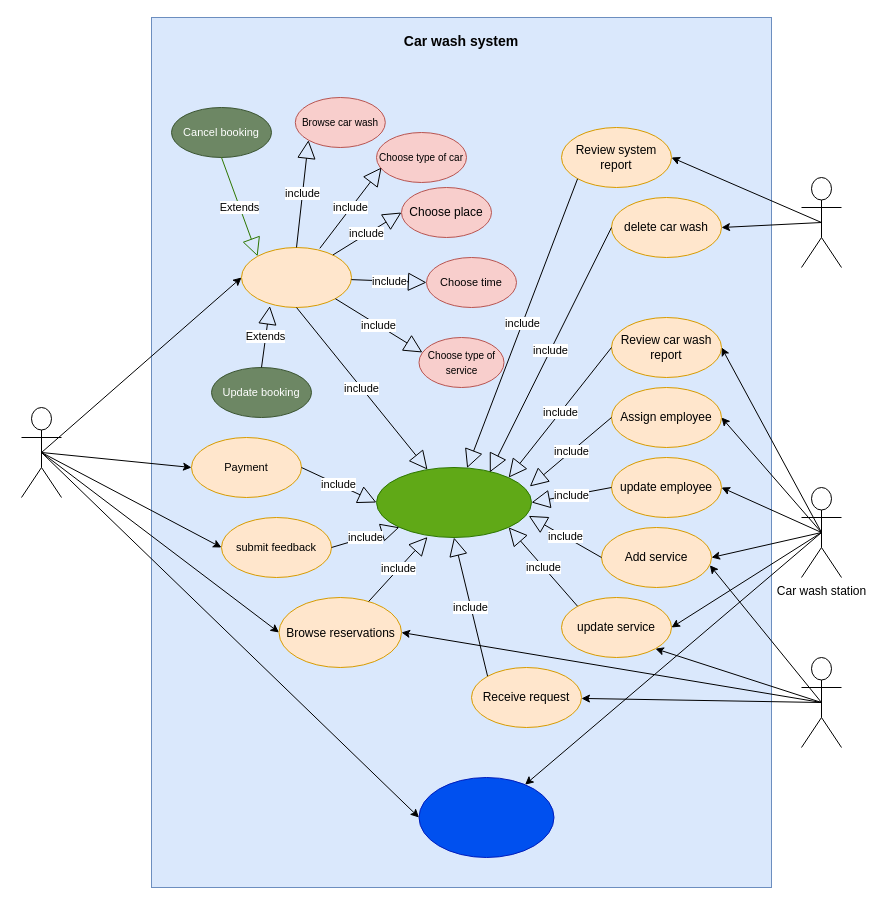
The diagram is 883 pixels wide and 905 high, and some of its shapes have lost their labels. The shapes that lost their labels are listed below. From the top down, each one's centre as x and y in pixels, then its label:
pixel 821 222: Admin
pixel 296 277: book a car wash
pixel 41 452: customer
pixel 454 502: Login
pixel 821 702: mobile car wash
pixel 486 817: Registration
